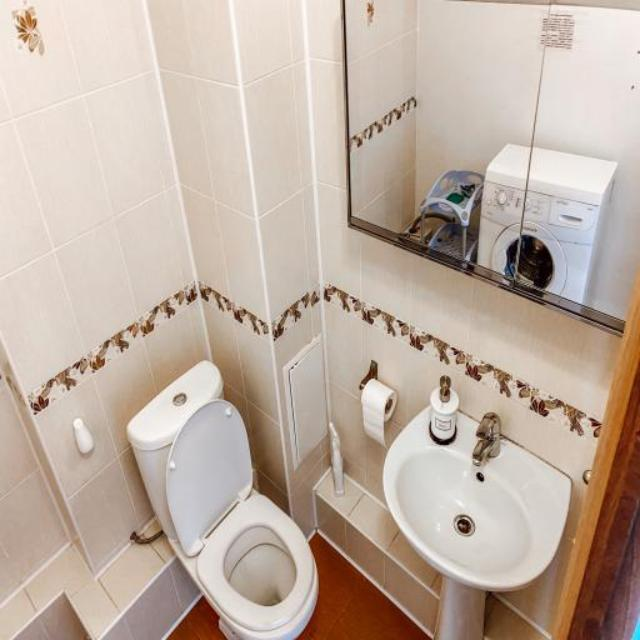Washing-Machine: (478, 140, 618, 316)
